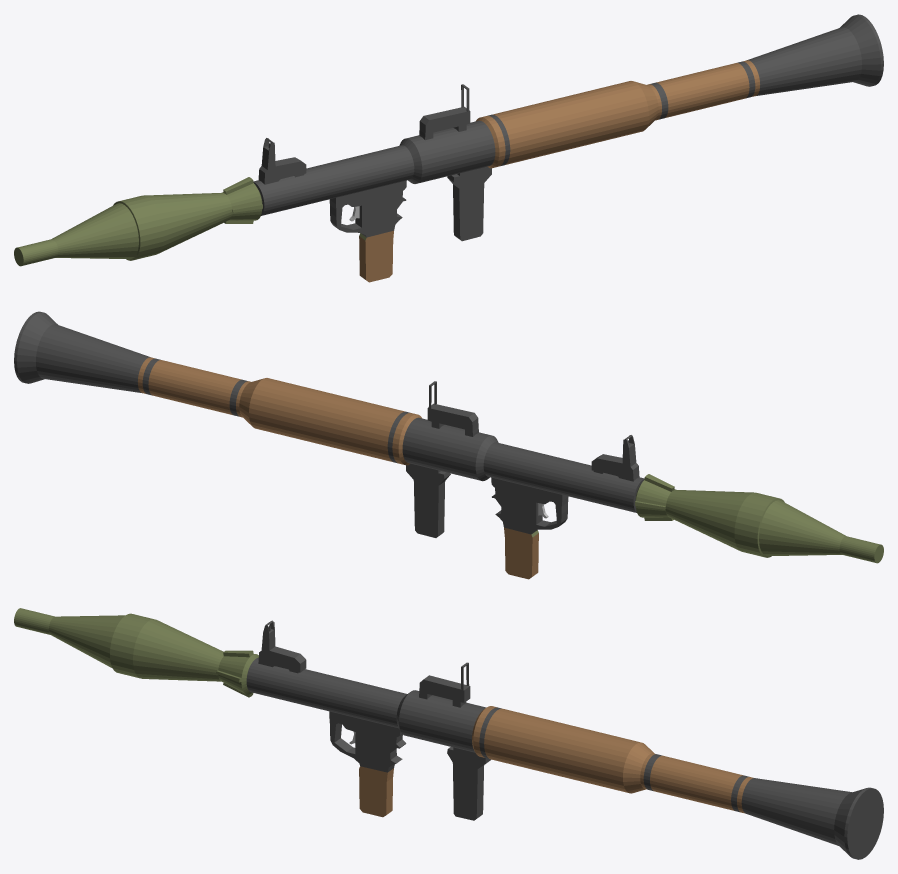
The model's file is RPG.fbx.
3 views of the same model, one above another, from view 1: azimuth 30°, elevation 25°; view 2: azimuth 150°, elevation 25°; view 3: azimuth 330°, elevation 25° (orthographic).
Visible parts, largest first — view 1: Cylinder; view 2: Cylinder; view 3: Cylinder.
Part boxes in pixels (<box>): Cylinder: <box>14,14,883,282</box>; Cylinder: <box>14,311,883,579</box>; Cylinder: <box>14,608,883,859</box>.
Bounding box in the file's own units: 985 × 188 × 73.92.
